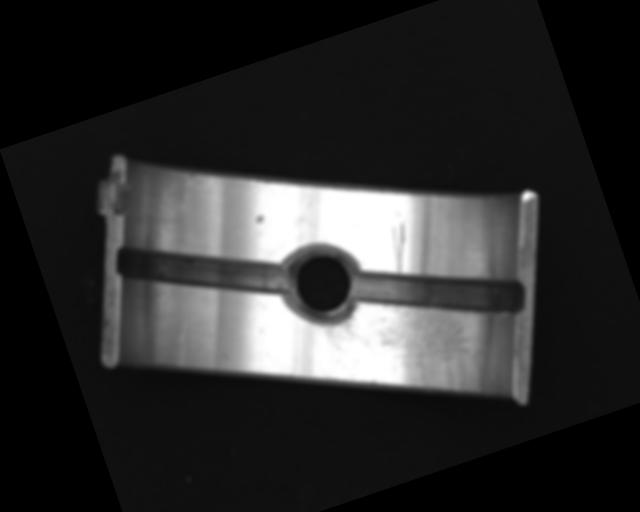bruise: (253, 214, 267, 226)
gap: (112, 200, 297, 340), (349, 224, 531, 360)
hole: (272, 235, 374, 334)
nick: (382, 221, 419, 275)
scratch: (312, 276, 488, 437)
